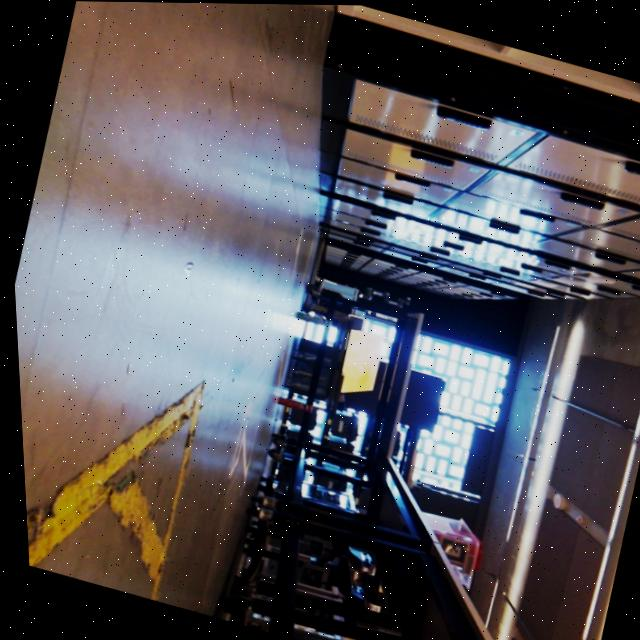greenpringles: (279, 294, 345, 341)
redpringles: (258, 386, 318, 420)
